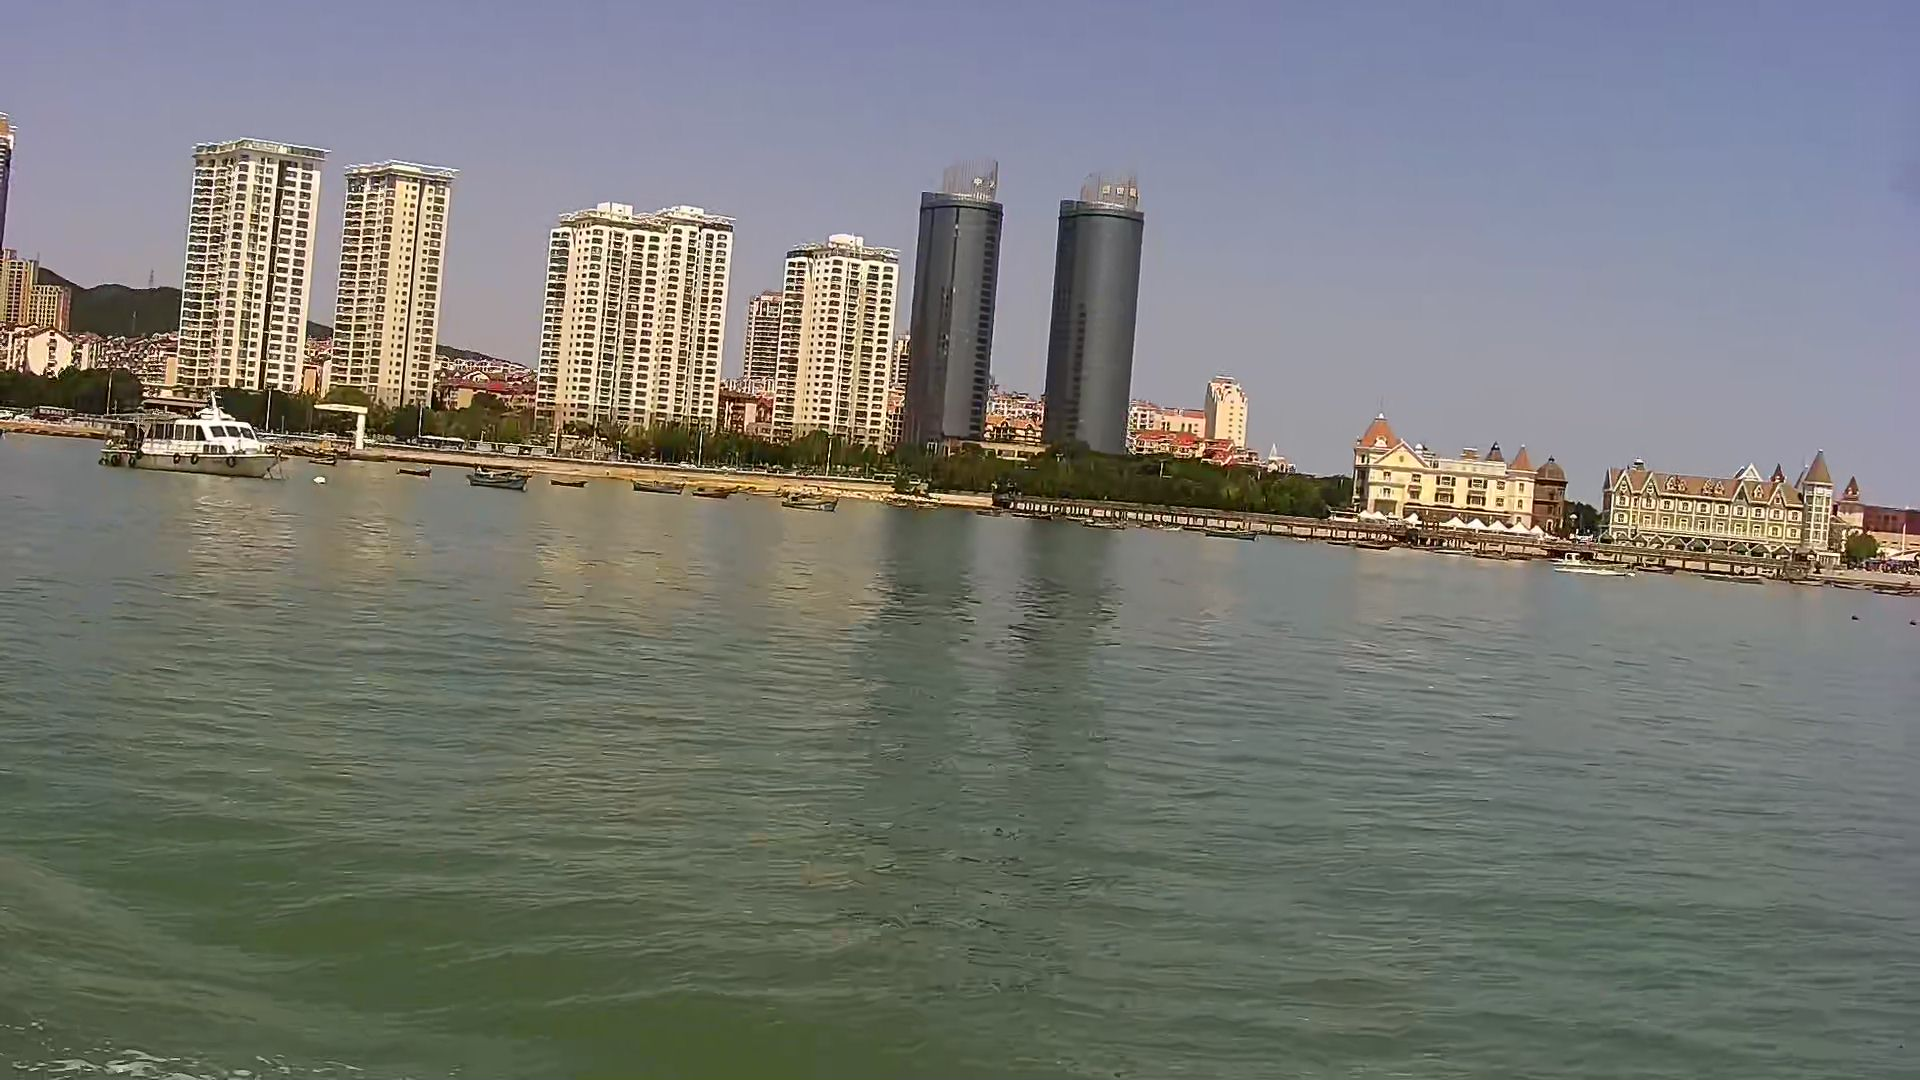boat: (464, 454, 531, 498)
ship: (95, 389, 289, 485)
